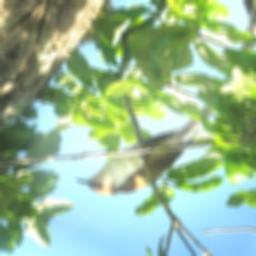Cuckoo: (69, 70, 222, 218)
